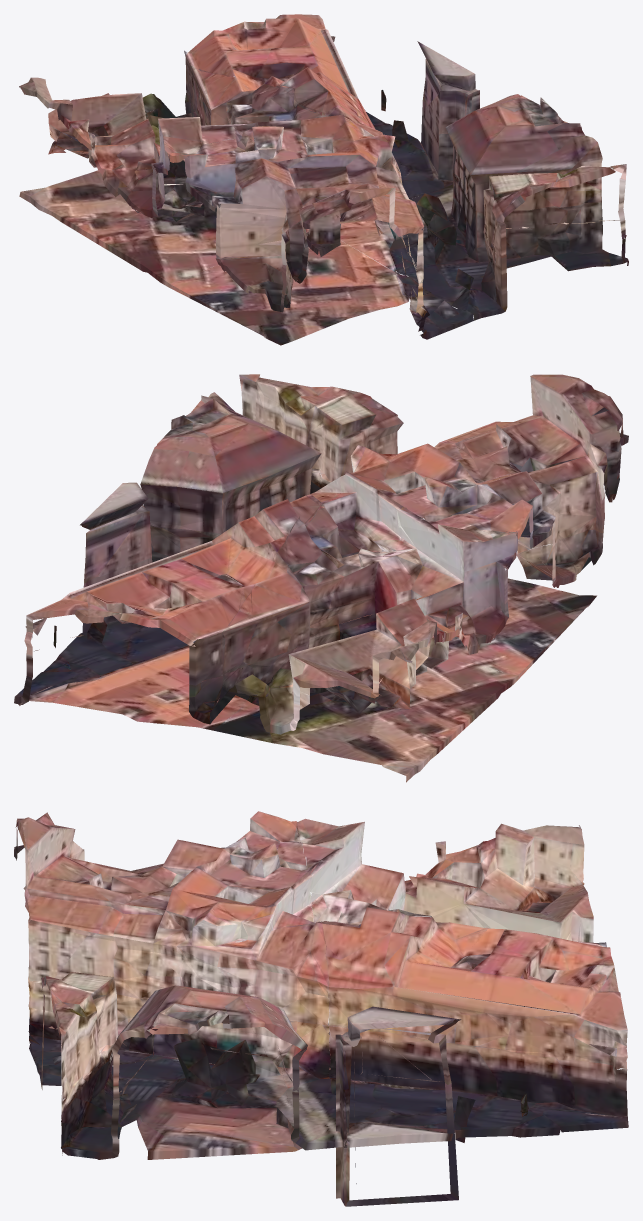
The picture shows the model from 3 angles, top to bottom: view 1: azimuth 30°, elevation 25°; view 2: azimuth 150°, elevation 25°; view 3: azimuth 270°, elevation 25°; orthographic projection. The views are drawn at different scales.
Visible parts, largest first — view 1: Mesh_0; view 2: Mesh_0; view 3: Mesh_0.
Boxes of the visible parts, bbox=[...] form: Mesh_0: bbox=[19, 14, 628, 345]; Mesh_0: bbox=[14, 374, 628, 782]; Mesh_0: bbox=[14, 811, 628, 1206].
Size of the model in its own units: 67.52 by 35.81 by 82.34.
Materials: 1 (1 with a texture image).
